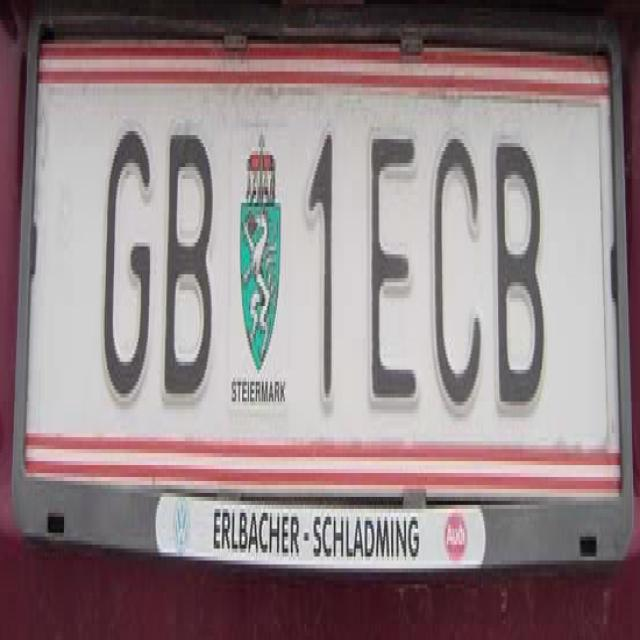Autre: (23, 43, 623, 490)
